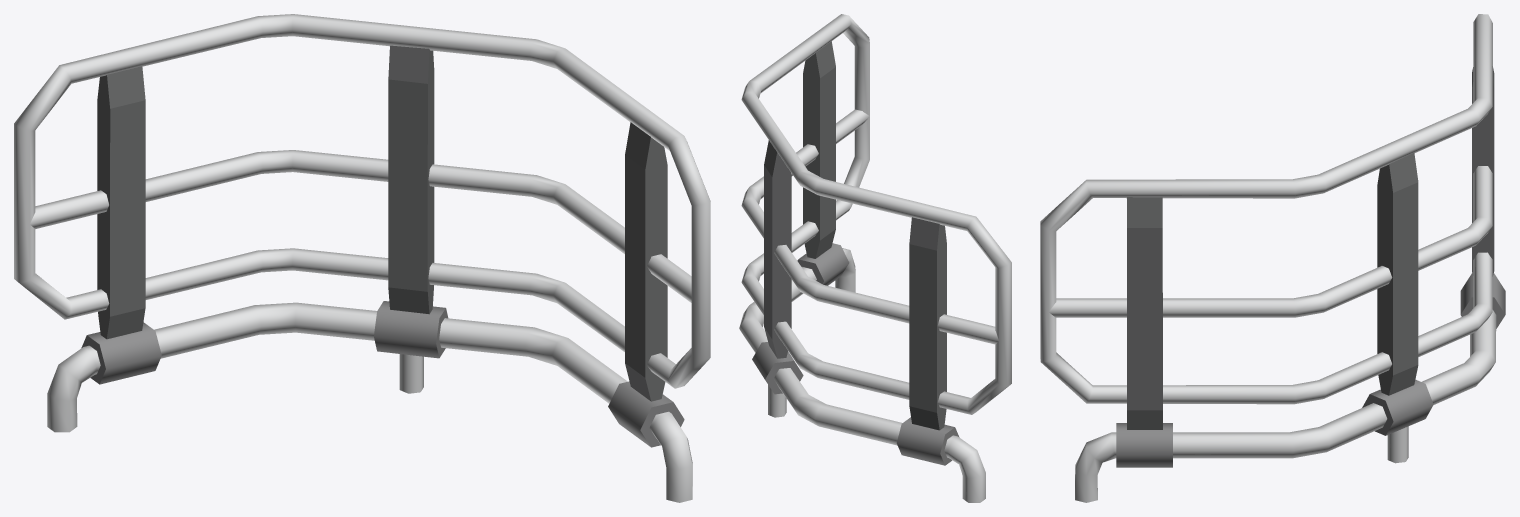
The model's file is Fence_type_B_001.glb.
The picture shows the model from 3 angles, left to right: view 1: azimuth 30°, elevation 25°; view 2: azimuth 150°, elevation 25°; view 3: azimuth 270°, elevation 25°; orthographic projection. The views are drawn at different scales.
Visible parts, largest first — view 1: Fence_type_B_001; view 2: Fence_type_B_001; view 3: Fence_type_B_001.
Boxes of the visible parts, x1,y1,x2,y2 form: Fence_type_B_001: (14,14,710,502); Fence_type_B_001: (739,14,1011,502); Fence_type_B_001: (1040,14,1505,502).
Size of the model in its own units: 1.9 by 1.43 by 1.9.
1 material, 1 textured.
